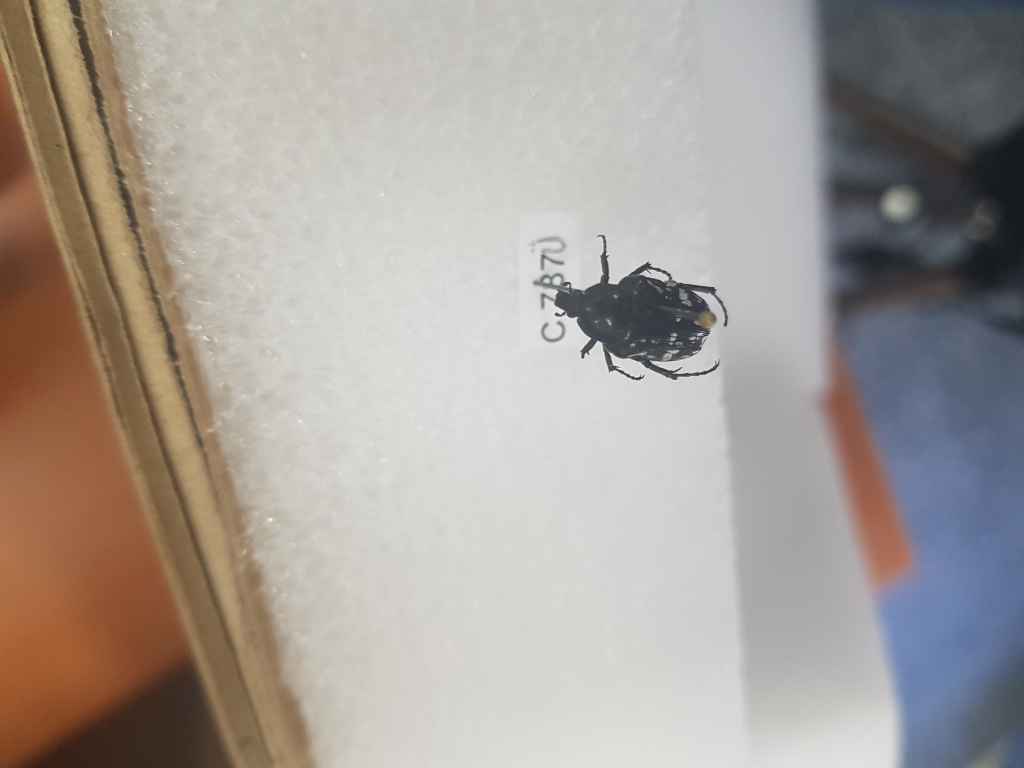Oxythyrea_albopicta: (542, 228, 731, 397)
